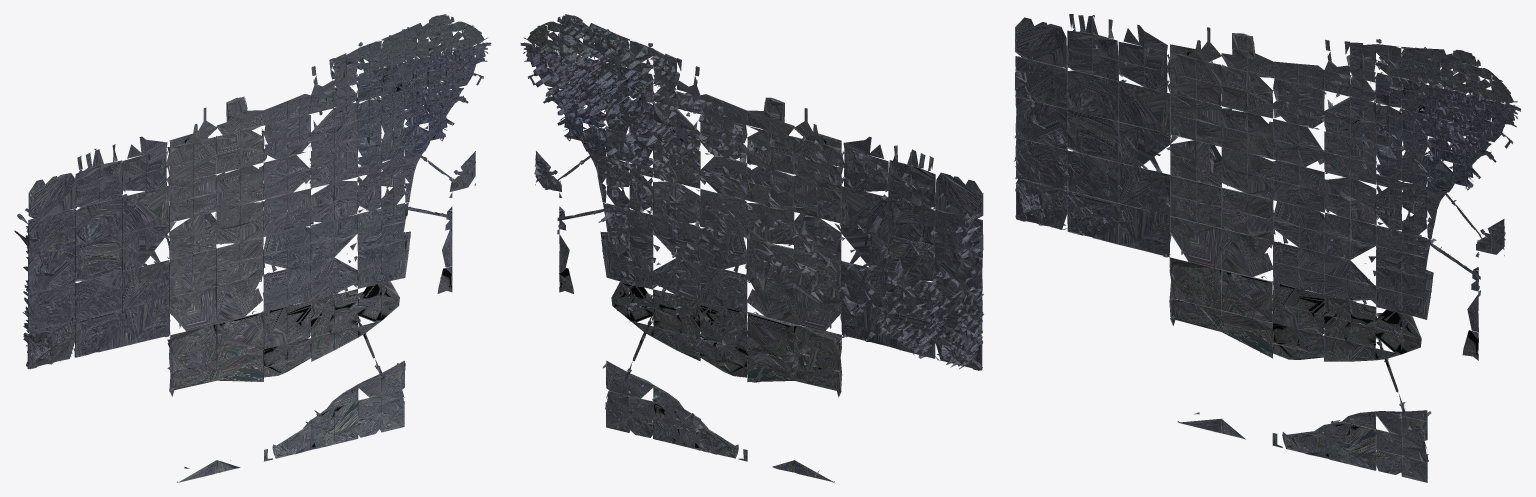
The picture shows the model from 3 angles, left to right: view 1: azimuth 30°, elevation 25°; view 2: azimuth 150°, elevation 25°; view 3: azimuth 330°, elevation 25°; orthographic projection. The views are drawn at different scales.
Parts seen in each view (by area): view 1: NewYork-Mnhtprt-2, NewYork-Mnhtprt-4, NewYork-Mnhtprt-3, NewYork-Mnhtprt-6, NewYork-Mnhtprt-5, NewYork-Mnhtprt-1, NewYork-Mnhtprt-9, NewYork-Mnhtprt-0, NewYork-Mnhtprt-7, NewYork-Mnhtprt-8, NewYork-Mnhtprt-10; view 2: NewYork-Mnhtprt-2, NewYork-Mnhtprt-4, NewYork-Mnhtprt-3, NewYork-Mnhtprt-6, NewYork-Mnhtprt-5, NewYork-Mnhtprt-1, NewYork-Mnhtprt-9, NewYork-Mnhtprt-7, NewYork-Mnhtprt-0, NewYork-Mnhtprt-8, NewYork-Mnhtprt-10; view 3: NewYork-Mnhtprt-2, NewYork-Mnhtprt-4, NewYork-Mnhtprt-3, NewYork-Mnhtprt-6, NewYork-Mnhtprt-5, NewYork-Mnhtprt-1, NewYork-Mnhtprt-9, NewYork-Mnhtprt-0, NewYork-Mnhtprt-7, NewYork-Mnhtprt-8, NewYork-Mnhtprt-10.
Part boxes in pixels (x1,y1,x2,y2): NewYork-Mnhtprt-2: [14, 136, 170, 369]; NewYork-Mnhtprt-4: [166, 96, 264, 330]; NewYork-Mnhtprt-3: [167, 266, 452, 396]; NewYork-Mnhtprt-6: [261, 49, 357, 236]; NewYork-Mnhtprt-5: [263, 192, 452, 311]; NewYork-Mnhtprt-1: [177, 358, 405, 482]; NewYork-Mnhtprt-9: [356, 56, 405, 167]; NewYork-Mnhtprt-0: [404, 42, 491, 118]; NewYork-Mnhtprt-7: [356, 14, 487, 71]; NewYork-Mnhtprt-8: [356, 151, 475, 214]; NewYork-Mnhtprt-10: [403, 107, 454, 156]; NewYork-Mnhtprt-2: [840, 136, 983, 370]; NewYork-Mnhtprt-4: [745, 97, 844, 331]; NewYork-Mnhtprt-3: [559, 266, 842, 397]; NewYork-Mnhtprt-6: [643, 49, 747, 237]; NewYork-Mnhtprt-5: [557, 192, 747, 312]; NewYork-Mnhtprt-1: [602, 360, 834, 482]; NewYork-Mnhtprt-9: [594, 63, 654, 168]; NewYork-Mnhtprt-7: [523, 14, 654, 76]; NewYork-Mnhtprt-0: [520, 42, 606, 120]; NewYork-Mnhtprt-8: [534, 151, 653, 214]; NewYork-Mnhtprt-10: [557, 108, 606, 156]; NewYork-Mnhtprt-2: [1014, 14, 1170, 257]; NewYork-Mnhtprt-4: [1167, 27, 1274, 278]; NewYork-Mnhtprt-3: [1169, 257, 1478, 392]; NewYork-Mnhtprt-6: [1272, 39, 1382, 224]; NewYork-Mnhtprt-5: [1272, 201, 1480, 332]; NewYork-Mnhtprt-1: [1177, 393, 1431, 482]; NewYork-Mnhtprt-9: [1374, 73, 1439, 186]; NewYork-Mnhtprt-0: [1426, 83, 1520, 162]; NewYork-Mnhtprt-7: [1374, 39, 1517, 103]; NewYork-Mnhtprt-8: [1375, 174, 1505, 255]; NewYork-Mnhtprt-10: [1427, 146, 1480, 192].
Size of the model in its own units: 4.77 by 3.97 by 0.4364.
Materials: 11 (11 with a texture image).
